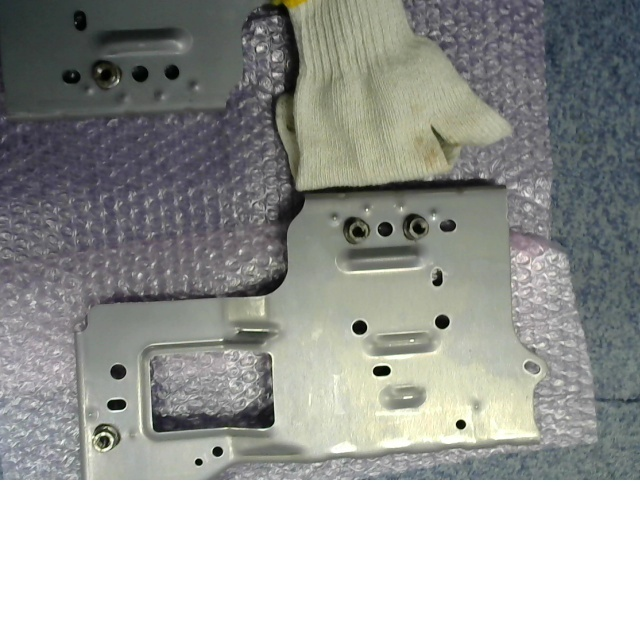dog: (88, 59, 121, 89), (91, 423, 120, 452), (342, 217, 370, 245), (403, 213, 428, 241)
